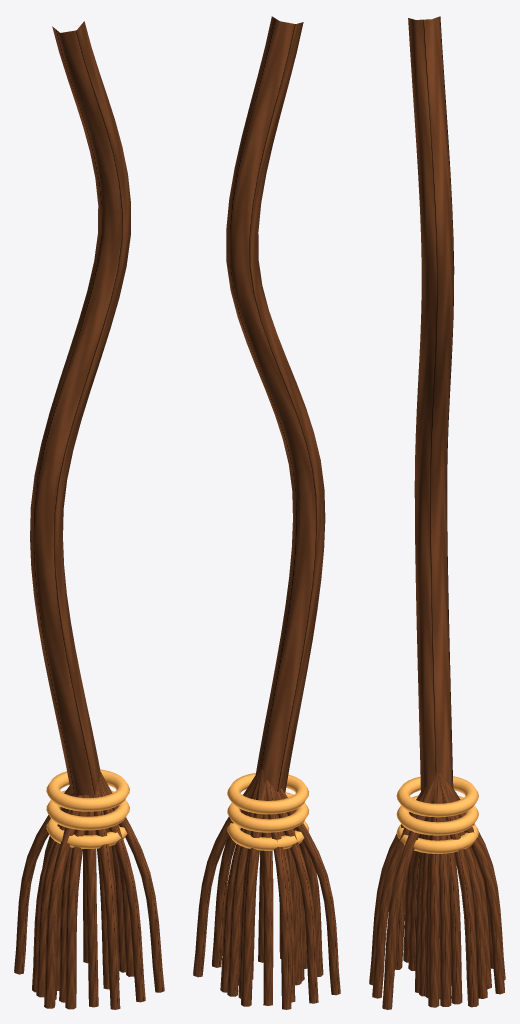
File: hollowwick-halloween-bound-twig-broom-33366676__21614.glb
The picture shows the model from 3 angles, left to right: view 1: azimuth 30°, elevation 25°; view 2: azimuth 210°, elevation 25°; view 3: azimuth 270°, elevation 25°; orthographic projection. The views are drawn at different scales.
Parts seen in each view (by area): view 1: bound-twig-broom; view 2: bound-twig-broom; view 3: bound-twig-broom.
Boxes of the visible parts, x1=… form: bound-twig-broom: x1=14, y1=21, x2=164, y2=1009; bound-twig-broom: x1=193, y1=16, x2=340, y2=1009; bound-twig-broom: x1=369, y1=16, x2=505, y2=1009.
Bounding box in the file's own units: 0.1825 × 1.57 × 0.202.
Materials: 2 (1 with a texture image).
